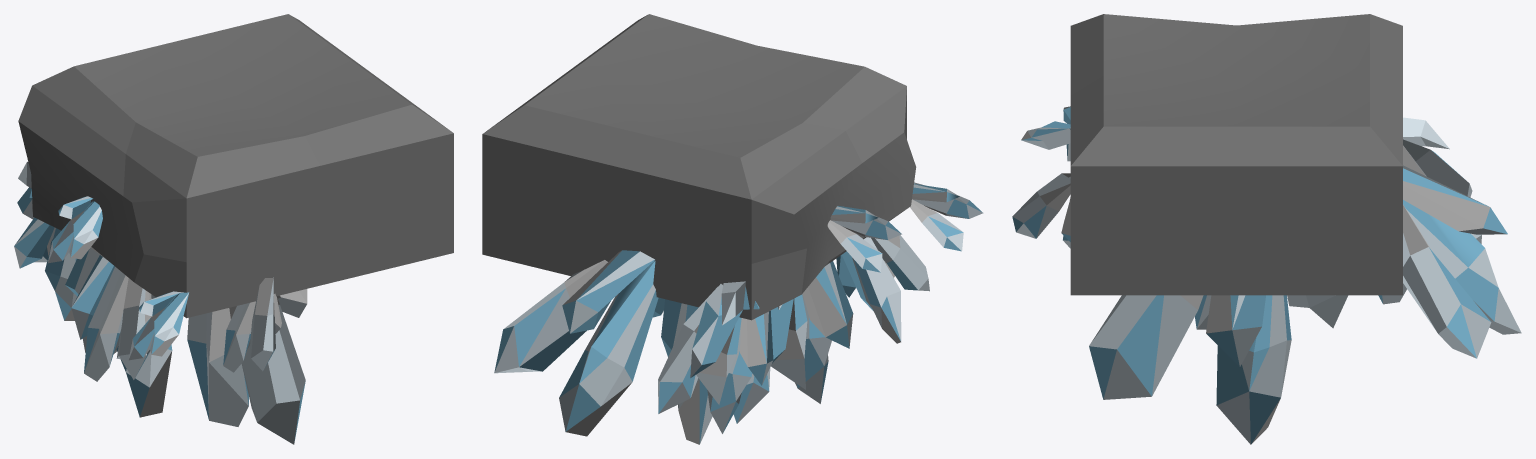
The model's file is Geo_FallingPlatform.fbx.
3 views of the same model, side by side, from view 1: azimuth 30°, elevation 25°; view 2: azimuth 150°, elevation 25°; view 3: azimuth 270°, elevation 25° (orthographic). The views are drawn at different scales.
Parts seen in each view (by area): view 1: Geo_FallingPlatform; view 2: Geo_FallingPlatform; view 3: Geo_FallingPlatform.
Boxes of the visible parts, bbox=[...] form: Geo_FallingPlatform: bbox=[14, 14, 453, 444]; Geo_FallingPlatform: bbox=[482, 14, 983, 444]; Geo_FallingPlatform: bbox=[1012, 14, 1521, 444].
Bounding box in the file's own units: 4.84 × 4.96 × 6.13.
